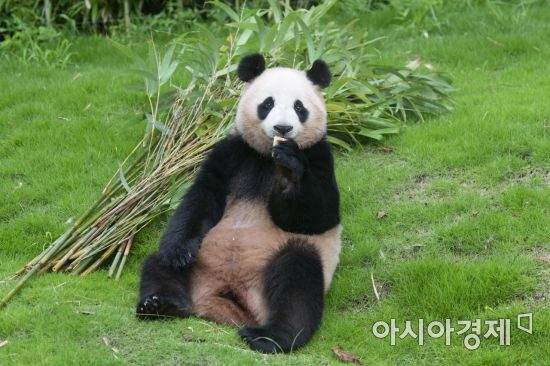panda: (126, 44, 379, 366)
